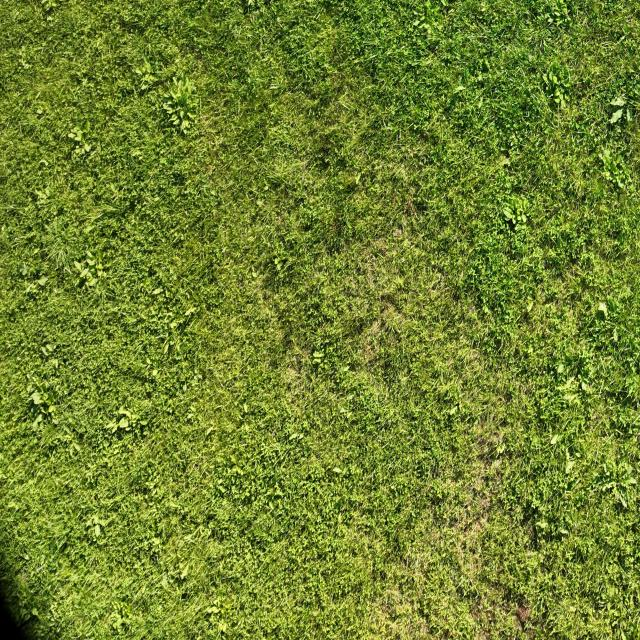rumex: (205, 422, 272, 510), (547, 336, 609, 416), (386, 2, 452, 77), (589, 443, 635, 506), (374, 116, 426, 170), (109, 389, 153, 441), (26, 374, 62, 432), (597, 143, 629, 190), (202, 594, 237, 635), (454, 55, 487, 93), (106, 600, 135, 636), (21, 262, 52, 295), (537, 1, 572, 30), (606, 95, 632, 130), (194, 110, 220, 141), (68, 119, 90, 149), (32, 181, 58, 206), (135, 61, 157, 90), (84, 510, 106, 537), (271, 241, 288, 275), (159, 326, 177, 355), (310, 345, 328, 374), (40, 0, 60, 19), (54, 245, 68, 272), (556, 380, 578, 396), (404, 199, 419, 221), (344, 171, 362, 189), (169, 172, 188, 188), (560, 392, 580, 406), (176, 90, 190, 109), (40, 342, 56, 358), (17, 46, 28, 69), (387, 318, 401, 336), (108, 182, 121, 201), (249, 152, 262, 171), (77, 76, 89, 94), (162, 96, 177, 110), (142, 55, 153, 74), (498, 153, 510, 170), (179, 72, 189, 92), (222, 67, 233, 84), (509, 196, 521, 211), (597, 302, 609, 317), (30, 391, 42, 406), (104, 419, 117, 432), (547, 72, 559, 86), (184, 304, 198, 316), (180, 118, 192, 132), (495, 442, 506, 457), (31, 416, 42, 431), (564, 459, 575, 474), (557, 93, 567, 109), (502, 207, 514, 220), (611, 96, 625, 107), (161, 573, 170, 590), (172, 75, 182, 90), (150, 536, 162, 548), (84, 222, 96, 234), (550, 433, 562, 445), (119, 409, 132, 420), (118, 416, 129, 429), (554, 88, 564, 102), (342, 392, 356, 402), (482, 58, 492, 72), (290, 432, 304, 442), (603, 145, 611, 162), (186, 79, 194, 96), (19, 262, 28, 277), (205, 425, 216, 437), (536, 520, 548, 531), (85, 249, 96, 261), (73, 260, 84, 272), (212, 403, 224, 414), (556, 362, 566, 375), (169, 88, 179, 101), (393, 227, 403, 239), (96, 249, 103, 265), (448, 405, 458, 416), (87, 276, 98, 286), (83, 270, 94, 280), (30, 607, 40, 618), (73, 441, 82, 453), (169, 320, 179, 330), (134, 67, 144, 77), (612, 329, 619, 343), (84, 118, 90, 134), (558, 528, 570, 536), (299, 521, 307, 533), (208, 187, 217, 197), (186, 111, 196, 120), (332, 466, 343, 474), (172, 115, 180, 126), (96, 265, 103, 277), (52, 358, 59, 370), (338, 407, 348, 415), (229, 454, 237, 464), (152, 287, 162, 295), (43, 380, 51, 390), (269, 84, 282, 90), (410, 122, 418, 131), (36, 106, 44, 115), (68, 132, 77, 140), (252, 269, 259, 279), (243, 402, 249, 413), (256, 198, 264, 206), (179, 109, 185, 119), (145, 358, 152, 366), (152, 368, 158, 377)
